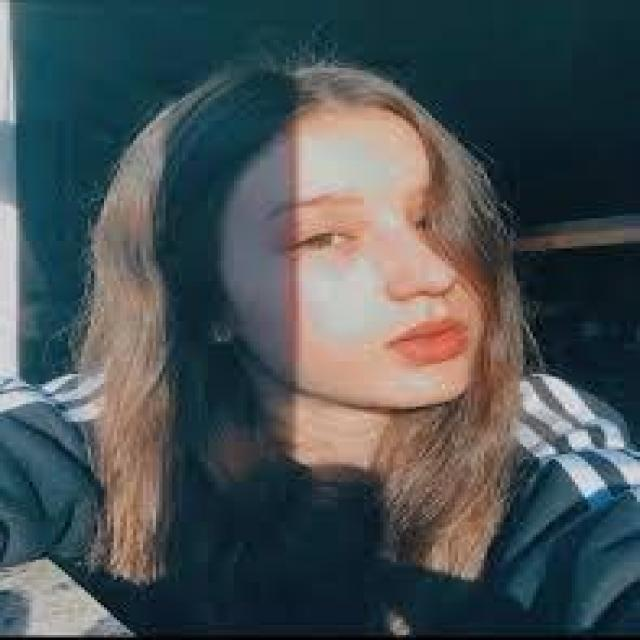person: (7, 65, 627, 638)
